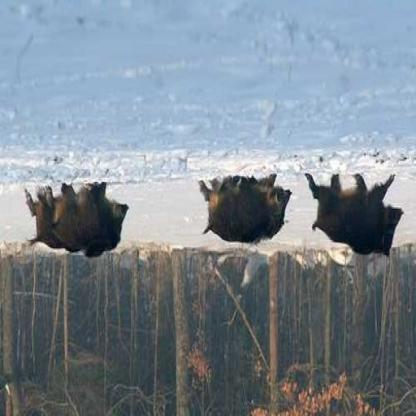boar: (304, 145, 407, 257), (37, 158, 138, 267), (198, 154, 296, 249)
